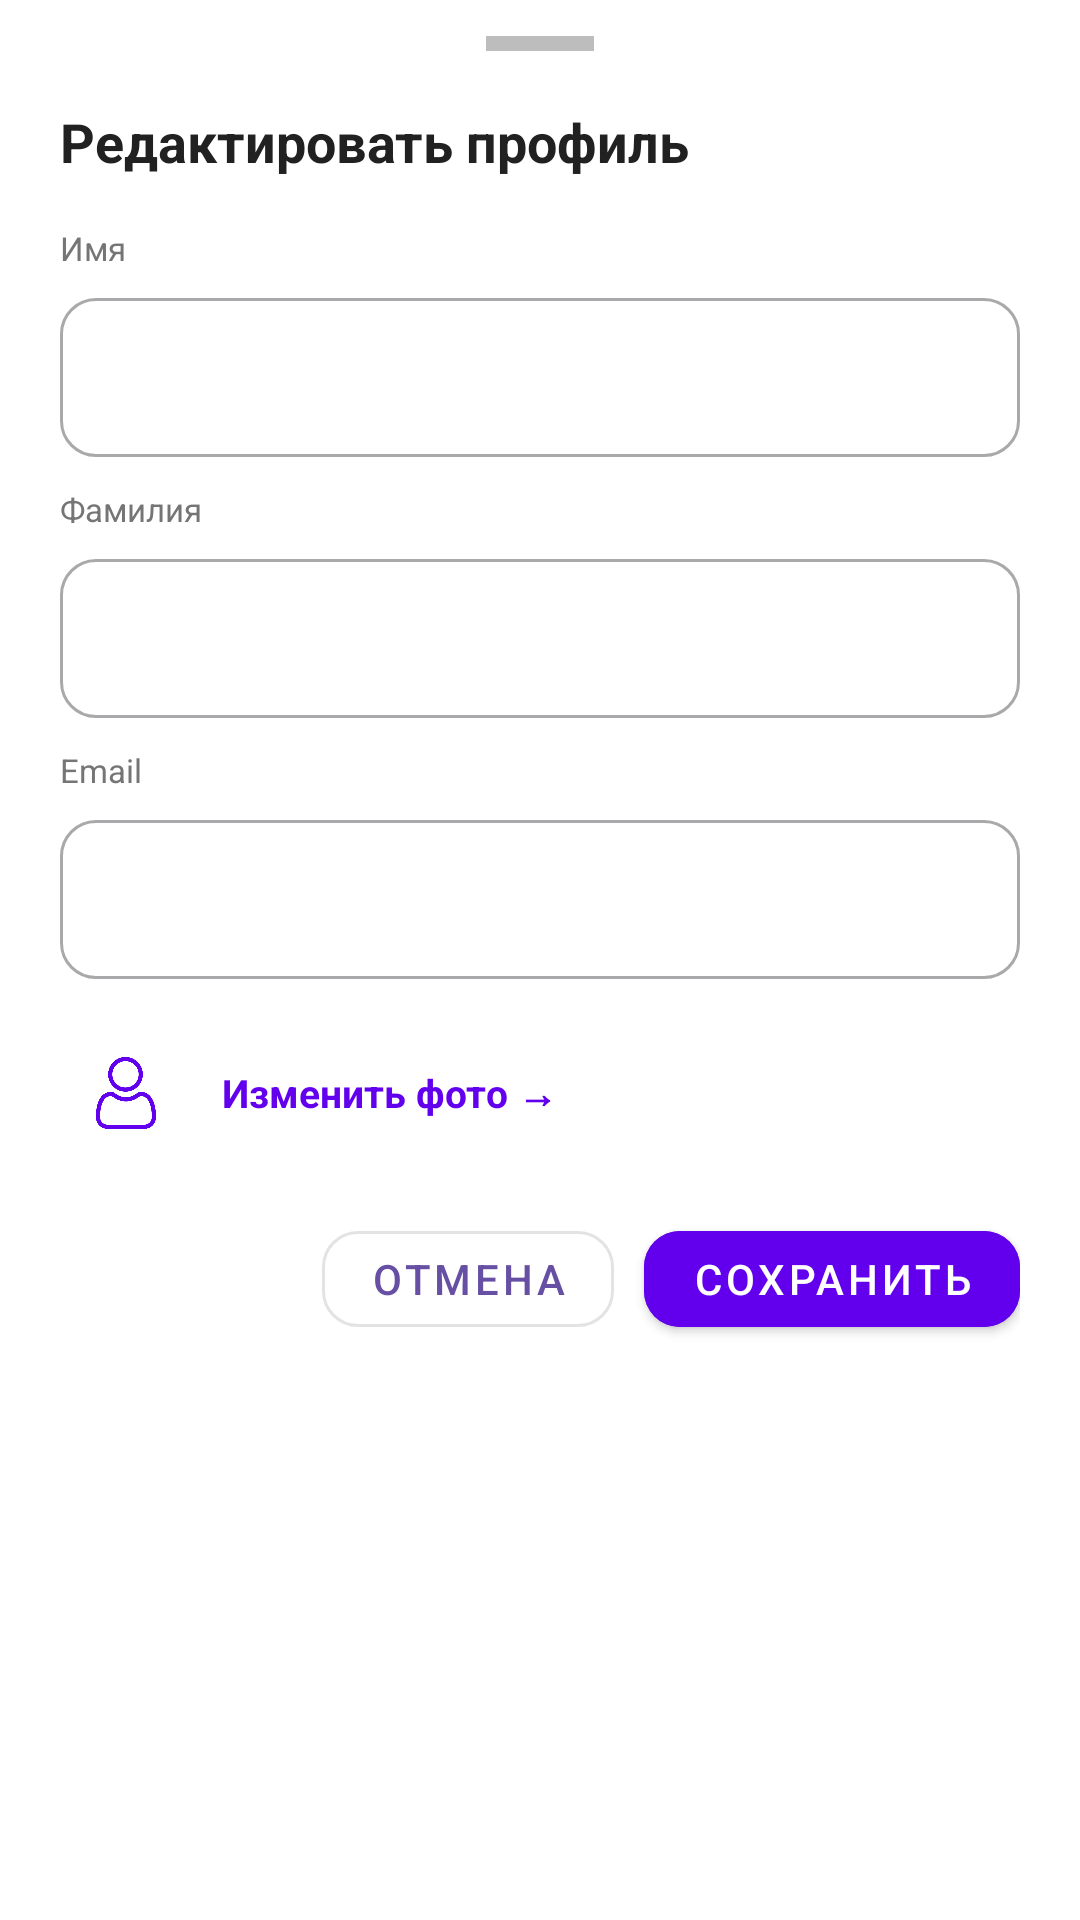

Icon bounding boxes for this 1080x1920 phone screenshot, format detection(x1, y1, x2, y2):
person: detection(96, 1057, 156, 1129)
